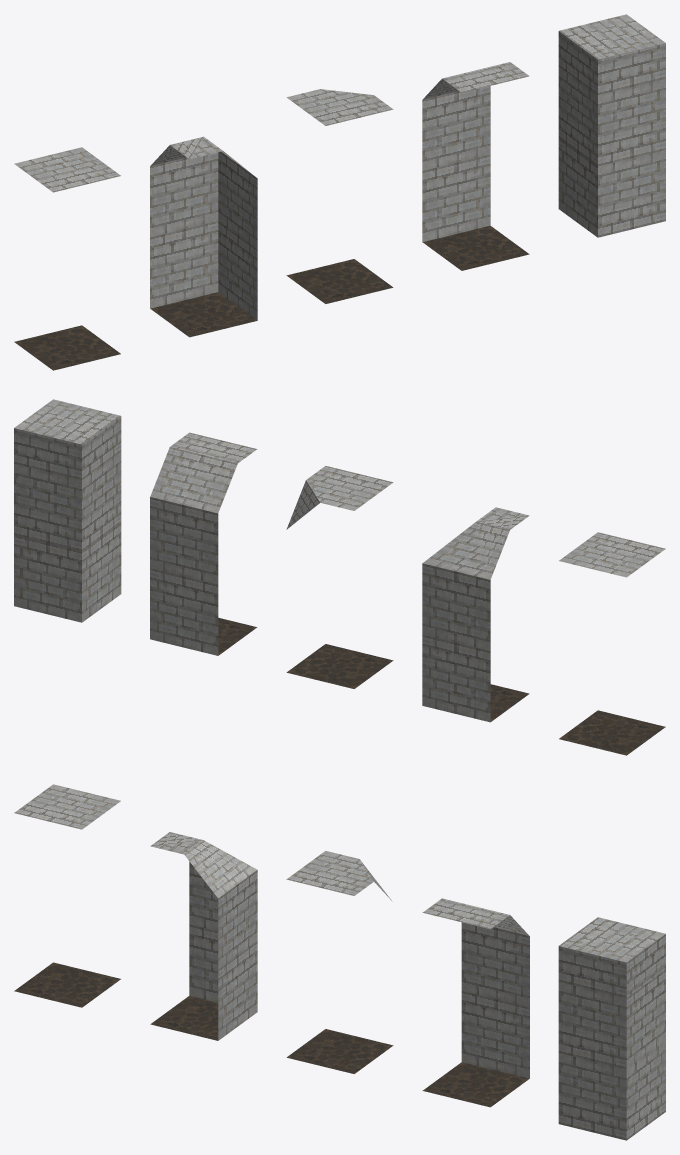
File: Dungeon.glb
3 renders of one model, top to bottom at view 1: azimuth 30°, elevation 25°; view 2: azimuth 150°, elevation 25°; view 3: azimuth 330°, elevation 25°, orthographic.
Visible parts, largest first — view 1: Column-col, Corner-Wall-col, Flat-Wall-col, Wall-col, Cornice-Wall-col; view 2: Column-col, Flat-Wall-col, Corner-Wall-col, Cornice-Wall-col, Wall-col; view 3: Column-col, Flat-Wall-col, Corner-Wall-col, Wall-col, Cornice-Wall-col.
Boxes of the visible parts, bbox=[...] form: Column-col: bbox=[558, 14, 665, 237]; Corner-Wall-col: bbox=[150, 136, 257, 337]; Flat-Wall-col: bbox=[422, 62, 529, 270]; Wall-col: bbox=[14, 147, 120, 370]; Cornice-Wall-col: bbox=[286, 89, 393, 303]; Column-col: bbox=[14, 399, 121, 622]; Flat-Wall-col: bbox=[150, 432, 257, 655]; Corner-Wall-col: bbox=[422, 507, 529, 722]; Cornice-Wall-col: bbox=[286, 466, 393, 688]; Wall-col: bbox=[559, 532, 665, 755]; Column-col: bbox=[558, 917, 665, 1140]; Flat-Wall-col: bbox=[422, 898, 529, 1107]; Corner-Wall-col: bbox=[150, 832, 257, 1040]; Wall-col: bbox=[14, 784, 120, 1007]; Cornice-Wall-col: bbox=[286, 851, 393, 1073].
Bounding box in the file's own units: 9 × 2.5 × 1.
Materials: 1 (1 with a texture image).
